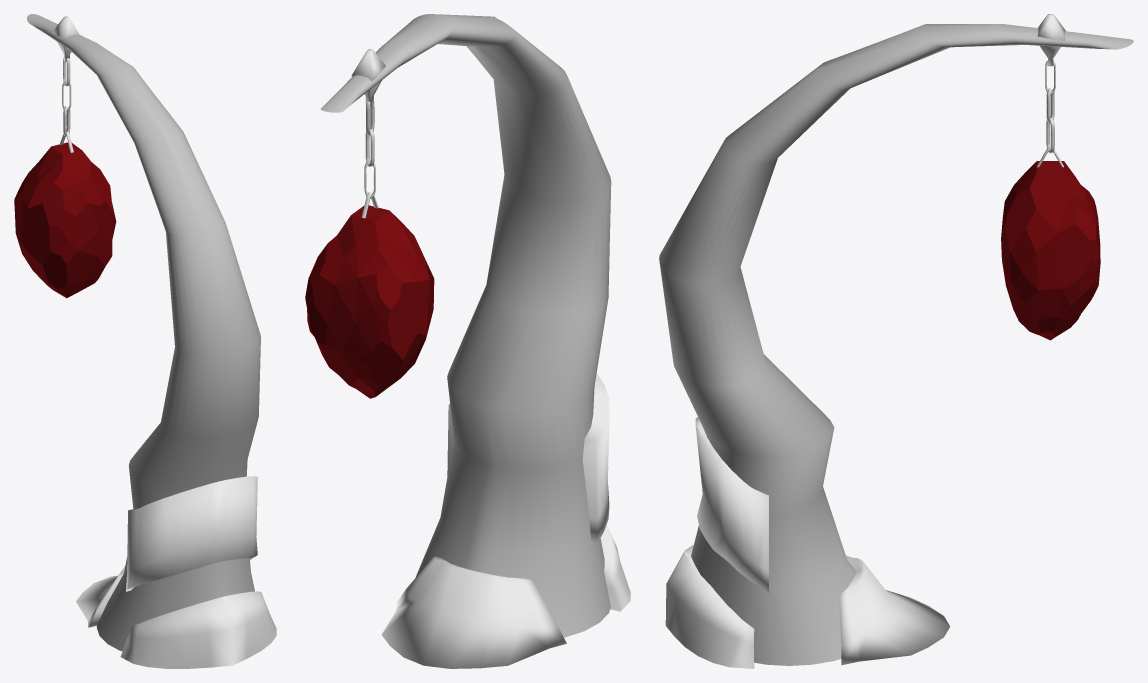
File: Tower_one_mesh_irrcrystal (1).fbx
3 views of the same model, side by side, from view 1: azimuth 30°, elevation 25°; view 2: azimuth 150°, elevation 25°; view 3: azimuth 270°, elevation 25° (orthographic). The views are drawn at different scales.
Visible parts, largest first — view 1: tower; view 2: tower; view 3: tower.
Boxes of the visible parts, x1=… form: tower: x1=14, y1=14, x2=276, y2=668; tower: x1=305, y1=14, x2=630, y2=668; tower: x1=659, y1=14, x2=1133, y2=668.
Size of the model in its own units: 143 by 487 by 342.
